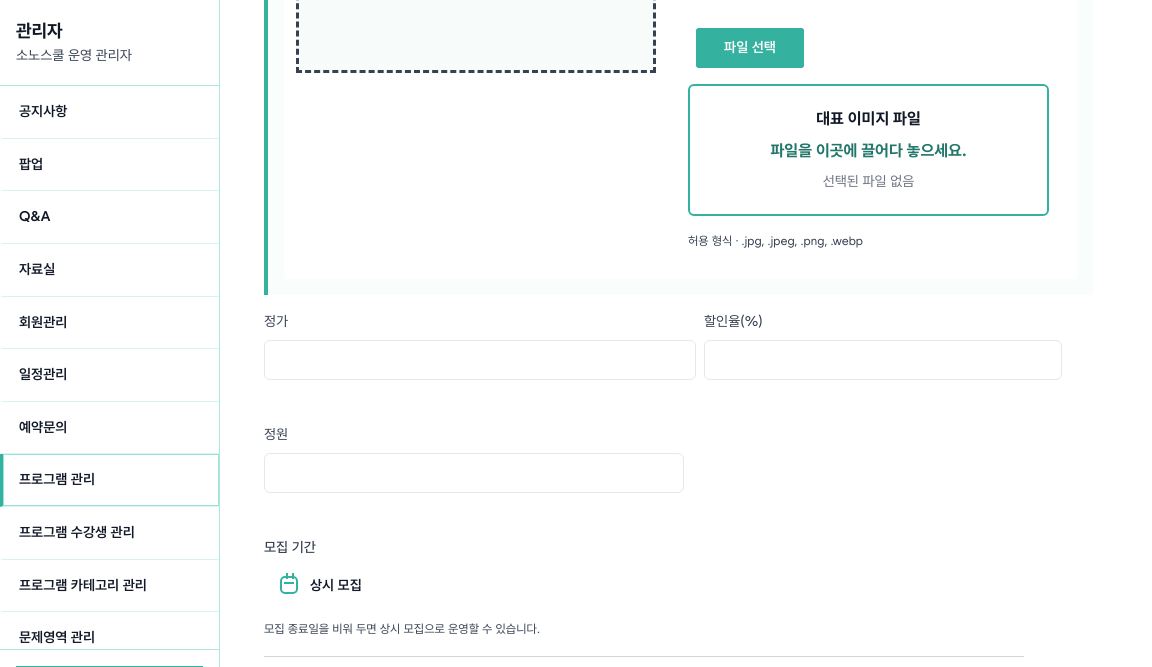
AdminConsolePage › formats the program registration price input with thousands separators
(page scrolled)
Type "1234567" into the field labelled "정가" at (480, 360), box [264, 340, 696, 380]
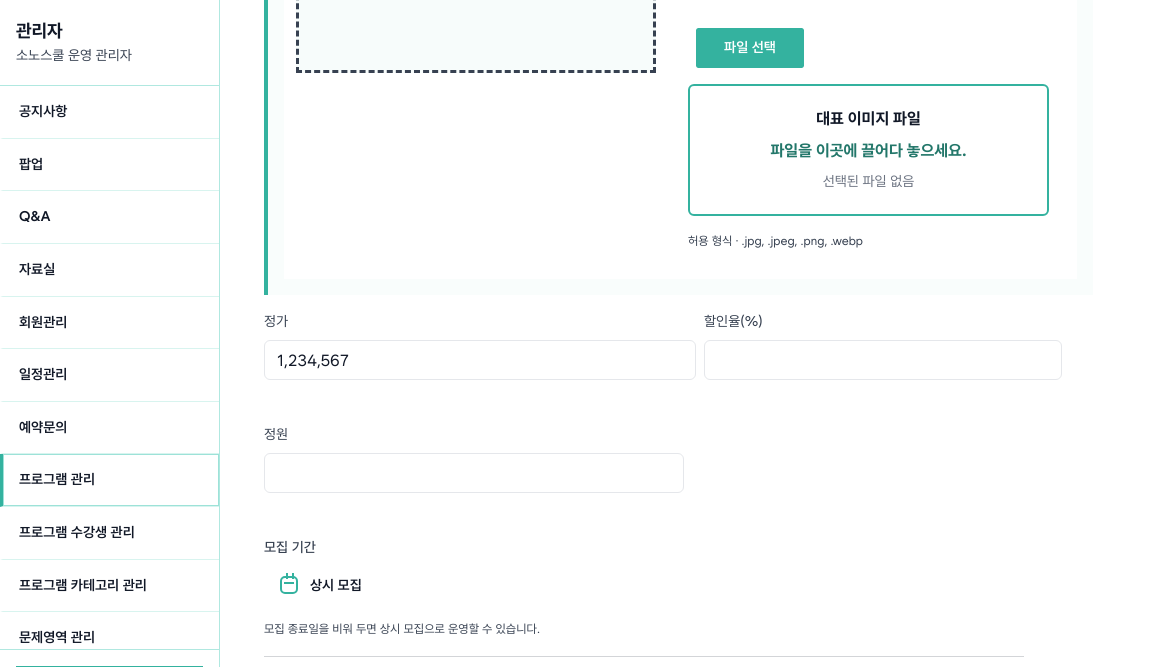
Result: the field labelled "정가" holds "1,234,567" at [264, 340, 696, 380]
